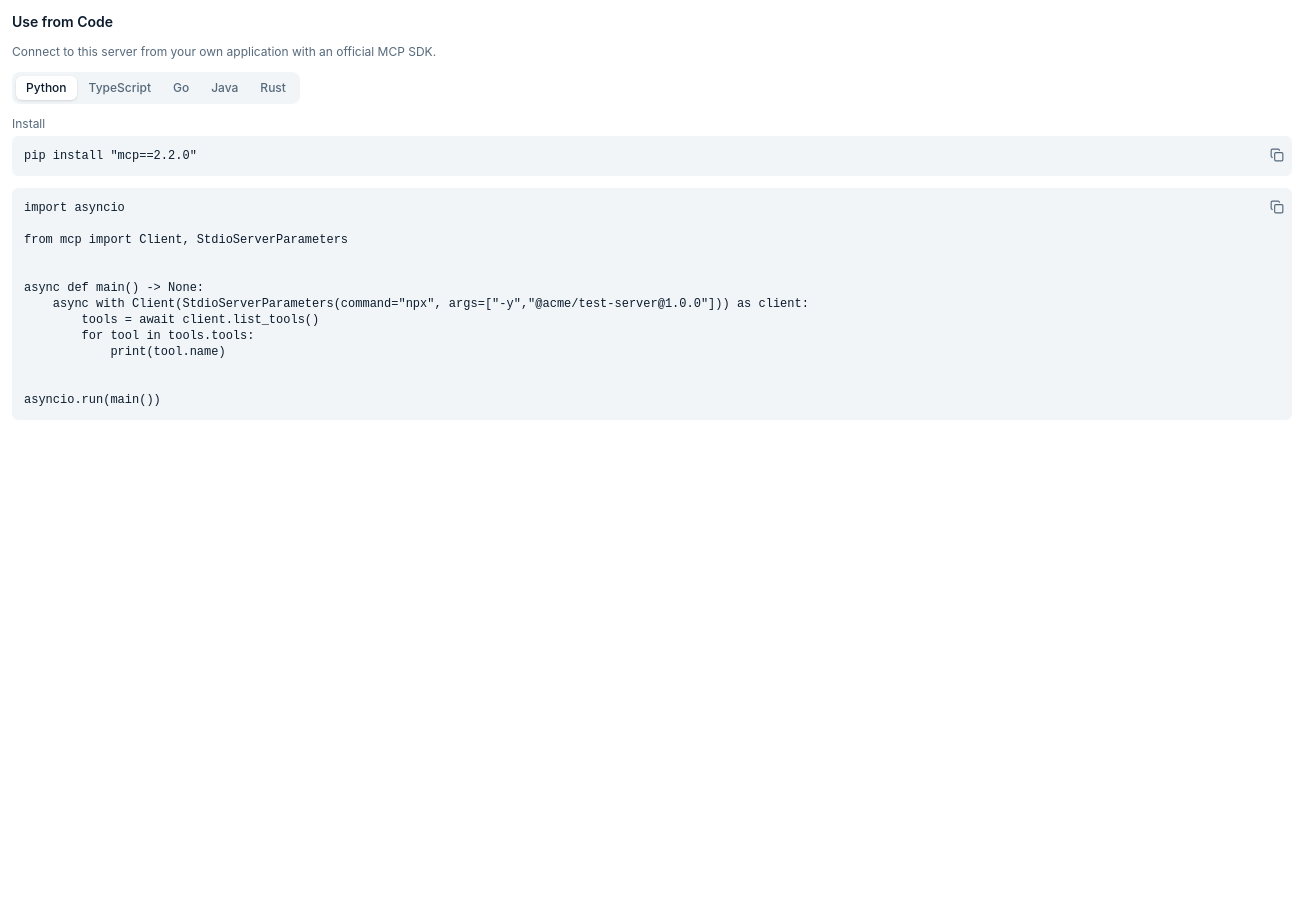
Test case: MCPCodeSnippets › switches language
What coordinates should you click on to do the following:
click the button "Go"
I would click on:
 (181, 88)
Its box is [163, 76, 199, 100].
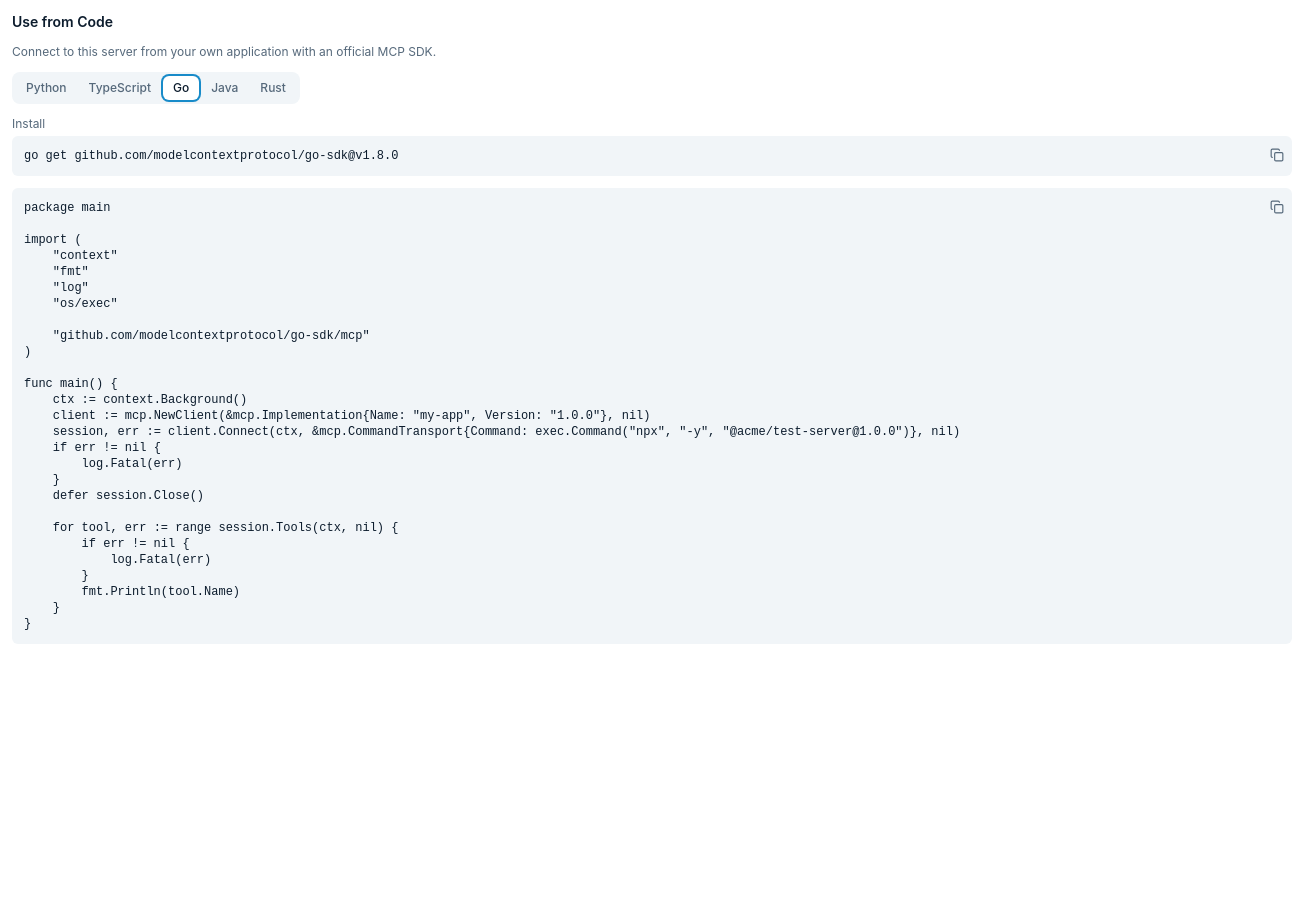
Now the text "go get github.com/modelcontextprotocol/go-sdk@v1.8.0" is shown, box [24, 149, 398, 163]
Now the text "mcp.CommandTransport" is shown, box [24, 201, 960, 631]
